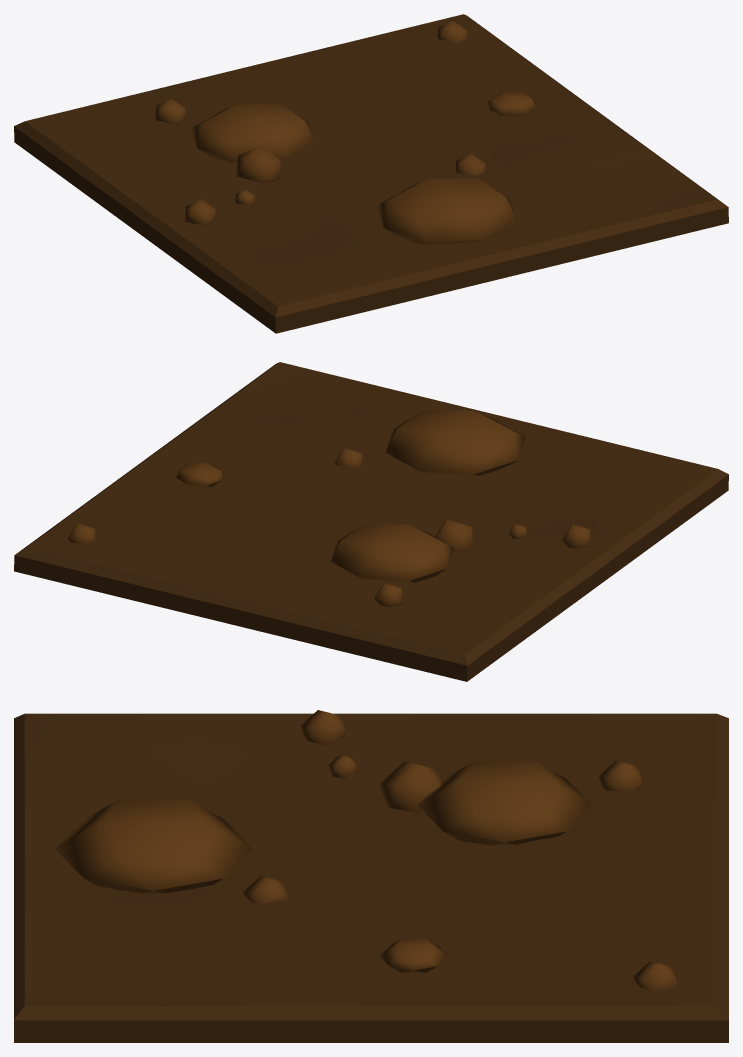
The model's file is dirt2.fbx.
3 views of the same model, one above another, from view 1: azimuth 30°, elevation 25°; view 2: azimuth 150°, elevation 25°; view 3: azimuth 270°, elevation 25° (orthographic). The views are drawn at different scales.
Visible parts, largest first — view 1: Sphere.003; view 2: Sphere.003; view 3: Sphere.003.
Part boxes in pixels (<box>): Sphere.003: <box>14,14,728,333</box>; Sphere.003: <box>14,362,728,681</box>; Sphere.003: <box>14,710,728,1042</box>.
Bounding box in the file's own units: 1.05 × 0.1125 × 1.05.
